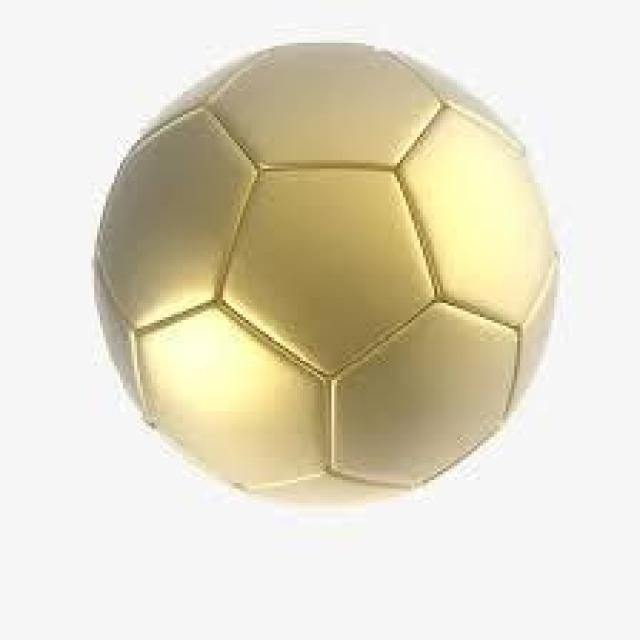Soccer Ball: (100, 46, 563, 506)
